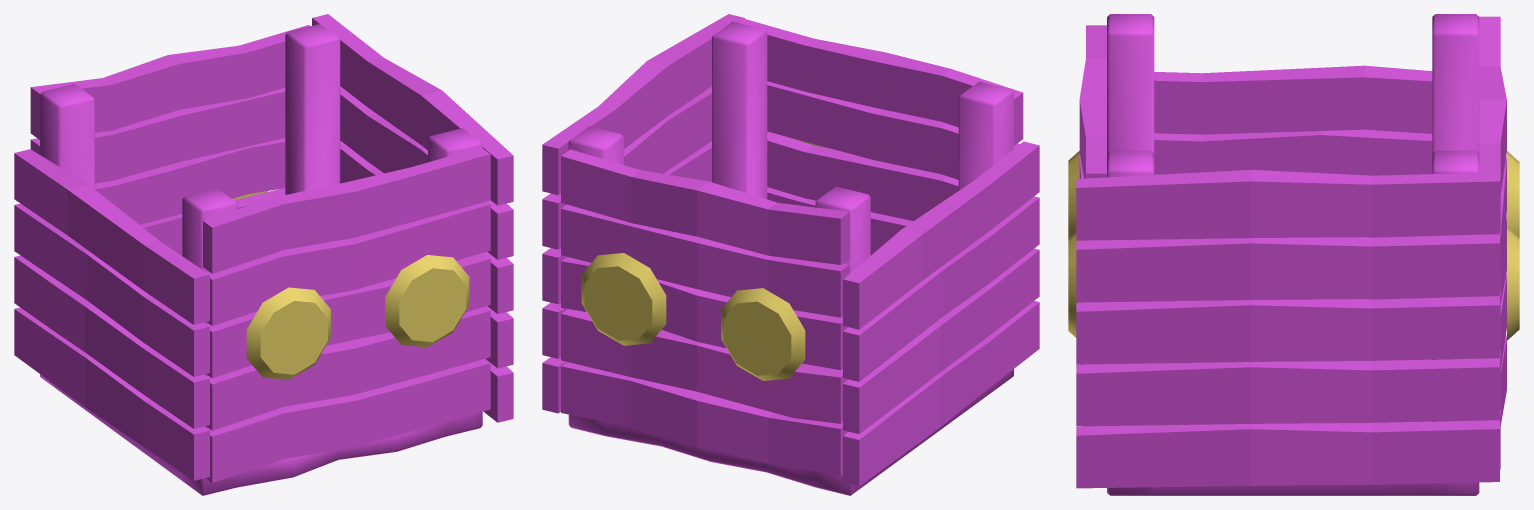
Rendered from Caja 2 nueva con pivote.fbx.
The picture shows the model from 3 angles, left to right: view 1: azimuth 30°, elevation 25°; view 2: azimuth 150°, elevation 25°; view 3: azimuth 270°, elevation 25°; orthographic projection. The views are drawn at different scales.
Visible parts, largest first — view 1: Cube.035, Cube.037, Cube.036, Cube.029, Cube.038, Cylinder.004, Cylinder.005; view 2: Cube.036, Cube.037, Cube.035, Cube.029, Cube.038, Cylinder.006, Cylinder.007; view 3: Cube.038, Cube.037, Cube.029, Cube.036, Cube.035, Cylinder.006, Cylinder.007, Cylinder.004, Cylinder.005.
Boxes of the visible parts, <box> form: Cube.035: <box>203,147,490,482</box>; Cube.037: <box>14,149,209,480</box>; Cube.036: <box>30,25,310,255</box>; Cube.029: <box>40,24,482,495</box>; Cube.038: <box>312,14,513,422</box>; Cylinder.004: <box>385,255,469,347</box>; Cylinder.005: <box>246,287,330,379</box>; Cube.036: <box>561,149,849,475</box>; Cube.037: <box>843,141,1039,486</box>; Cube.035: <box>738,18,1023,255</box>; Cube.029: <box>568,21,1013,495</box>; Cube.038: <box>542,14,744,413</box>; Cylinder.006: <box>581,253,666,345</box>; Cylinder.007: <box>721,288,805,380</box>; Cube.038: <box>1076,169,1499,488</box>; Cube.037: <box>1154,65,1432,299</box>; Cube.029: <box>1107,14,1479,495</box>; Cube.036: <box>1479,16,1506,469</box>; Cube.035: <box>1079,25,1106,364</box>; Cylinder.006: <box>1507,227,1519,340</box>; Cylinder.007: <box>1507,151,1519,237</box>; Cylinder.004: <box>1068,232,1078,337</box>; Cylinder.005: <box>1068,151,1079,238</box>.
Size of the model in its own units: 132 by 111 by 139.
